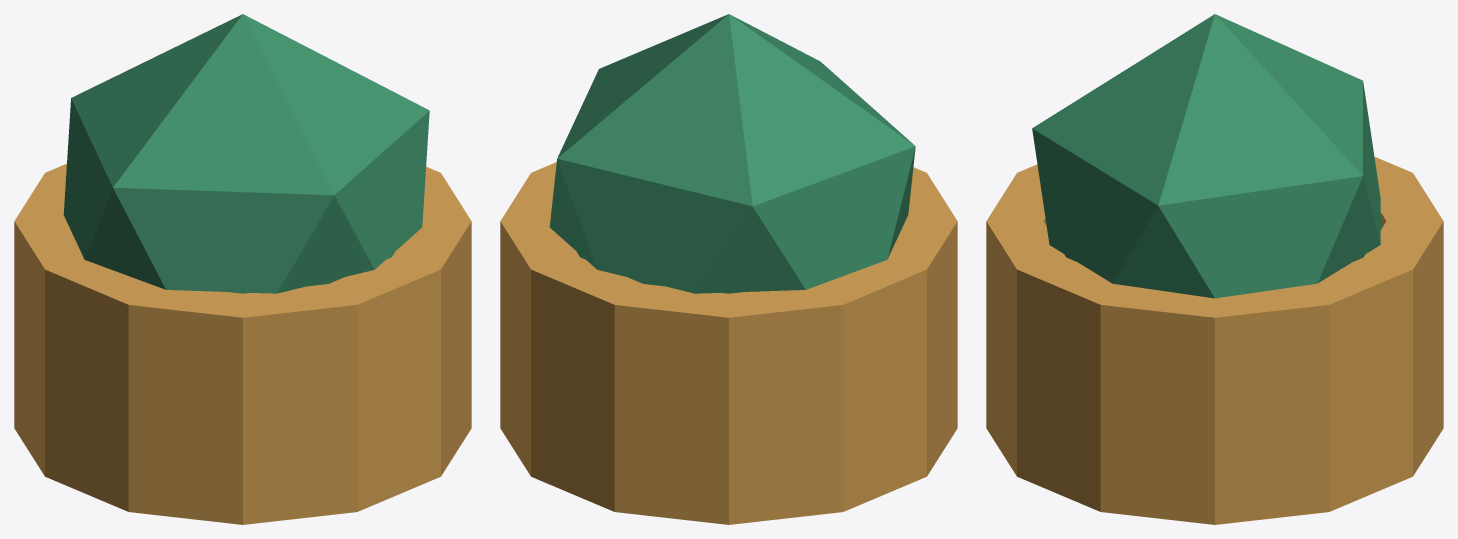
Rendered from plant_6.glb.
3 renders of one model, left to right at view 1: azimuth 30°, elevation 25°; view 2: azimuth 150°, elevation 25°; view 3: azimuth 270°, elevation 25°, orthographic.
Visible parts, largest first — view 1: Mesh_Mesh_head_geo.001_lambert2SG.001; view 2: Mesh_Mesh_head_geo.001_lambert2SG.001; view 3: Mesh_Mesh_head_geo.001_lambert2SG.001.
Boxes of the visible parts, x1,y1,x2,y2 form: Mesh_Mesh_head_geo.001_lambert2SG.001: (14, 14, 471, 524); Mesh_Mesh_head_geo.001_lambert2SG.001: (500, 14, 957, 524); Mesh_Mesh_head_geo.001_lambert2SG.001: (986, 14, 1443, 524).
Bounding box in the file's own units: 1 × 1 × 1.
